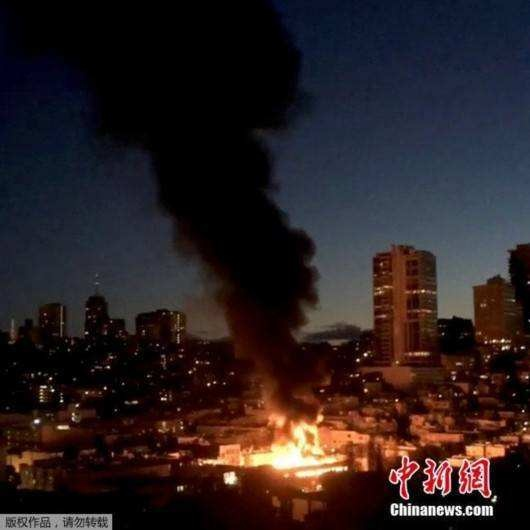fire: (244, 408, 352, 478)
